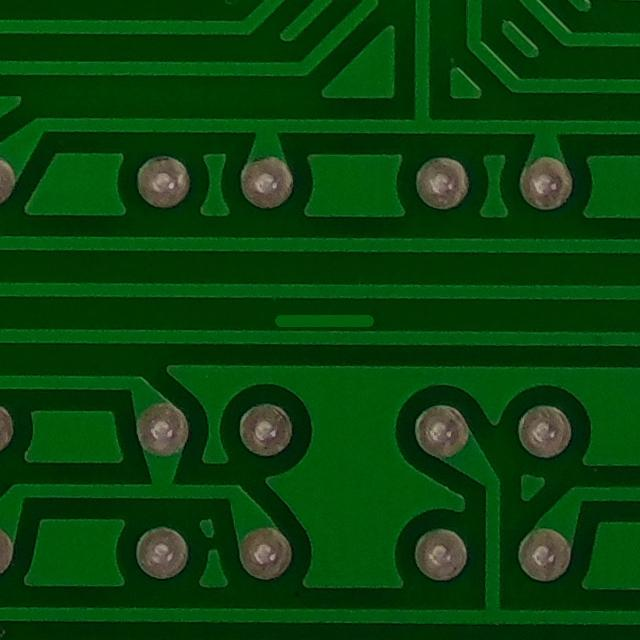spurious_copper: (258, 296, 383, 345)
